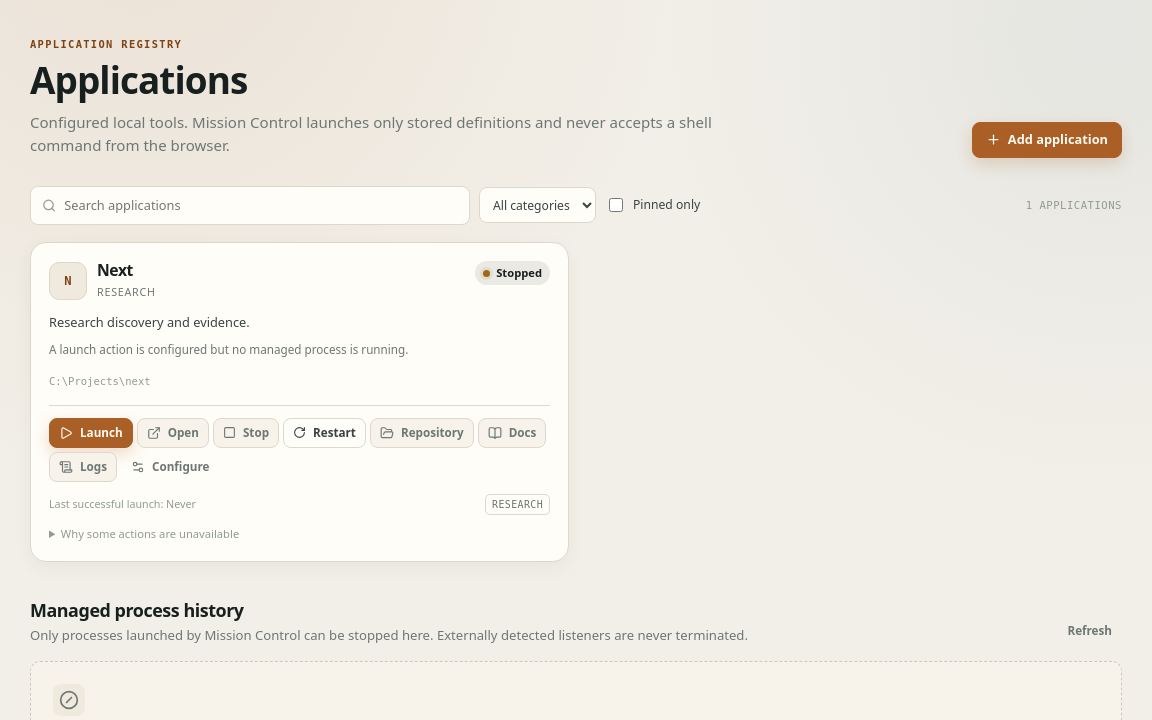
Test: ApplicationsPage › reports a failed launch without breaking the page
This screenshot has width=1152, height=720.
Expected: the heading "Next" is shown, [97,259,133,281]
Click the button "Launch" at x=91, y=433, box [49,418,133,448]
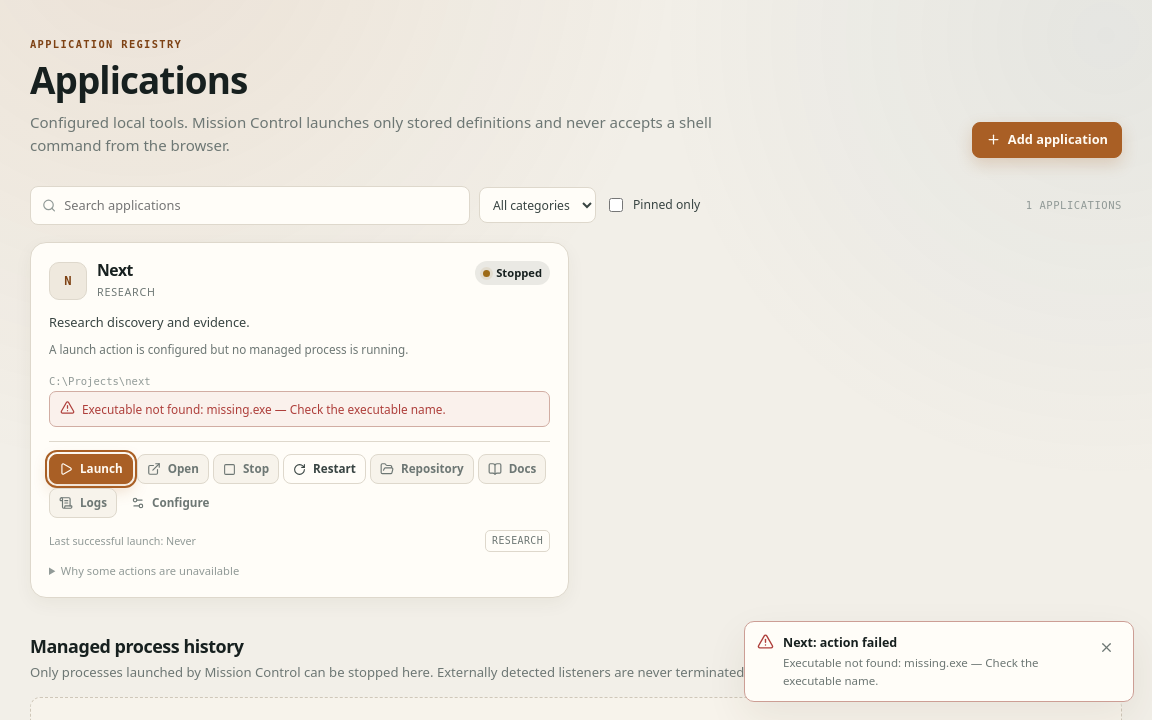
Expected: the heading "Next" is shown, [97,259,133,281]
Now the text "Executable not found: missing.exe" below "C:\\Projects\\next" is shown, box [82,401,446,417]
